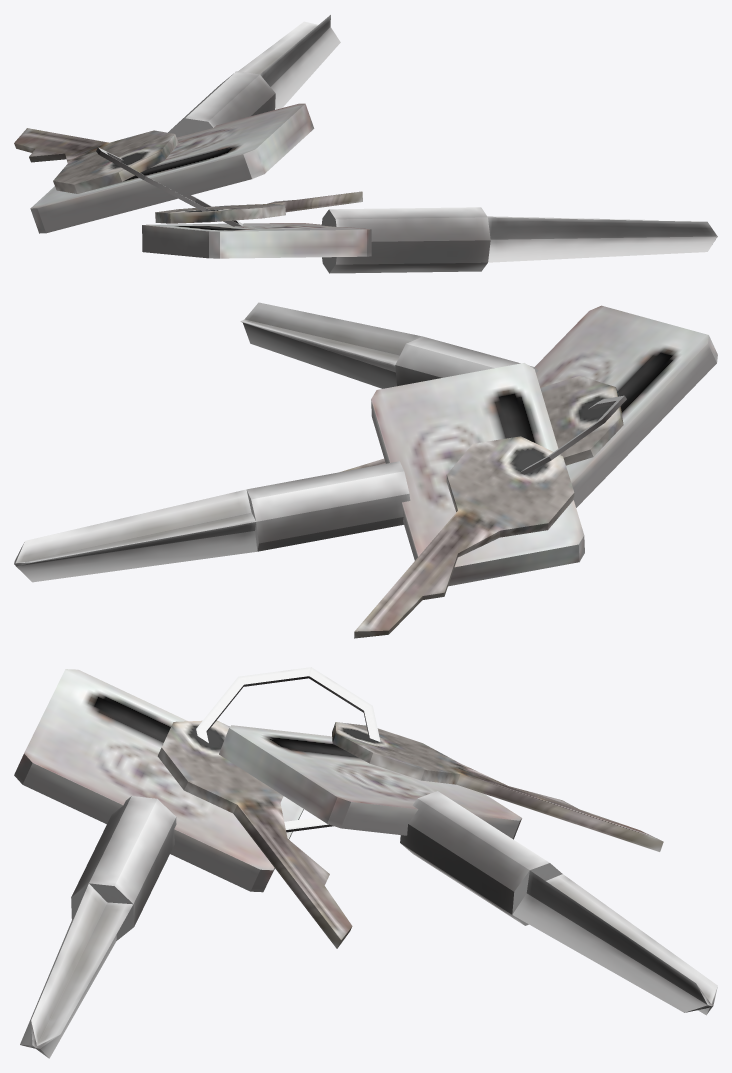
Rendered from WuZhengDiaoChaKe_01_yaoshi_01.FBX.
3 renders of one model, top to bottom at view 1: azimuth 30°, elevation 25°; view 2: azimuth 150°, elevation 25°; view 3: azimuth 270°, elevation 25°, orthographic. The views are drawn at different scales.
Visible parts, largest first — view 1: CeSuo_yaoshi_01; view 2: CeSuo_yaoshi_01; view 3: CeSuo_yaoshi_01.
Boxes of the visible parts, x1,y1,x2,y2 form: CeSuo_yaoshi_01: (14,15,717,273); CeSuo_yaoshi_01: (14,302,717,638); CeSuo_yaoshi_01: (14,667,717,1058).
Size of the model in its own units: 50.16 by 12.07 by 54.94.
